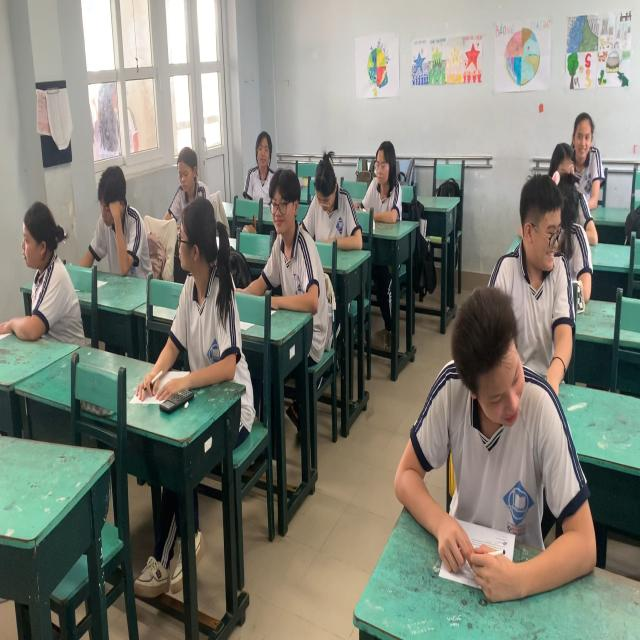cheating: (502, 178, 572, 384), (169, 191, 240, 377), (11, 197, 76, 333)
not_cheating: (394, 284, 586, 557), (264, 164, 322, 308), (311, 146, 360, 254), (97, 167, 144, 274), (567, 105, 601, 215), (362, 139, 404, 225), (247, 130, 280, 202), (171, 143, 200, 202)
